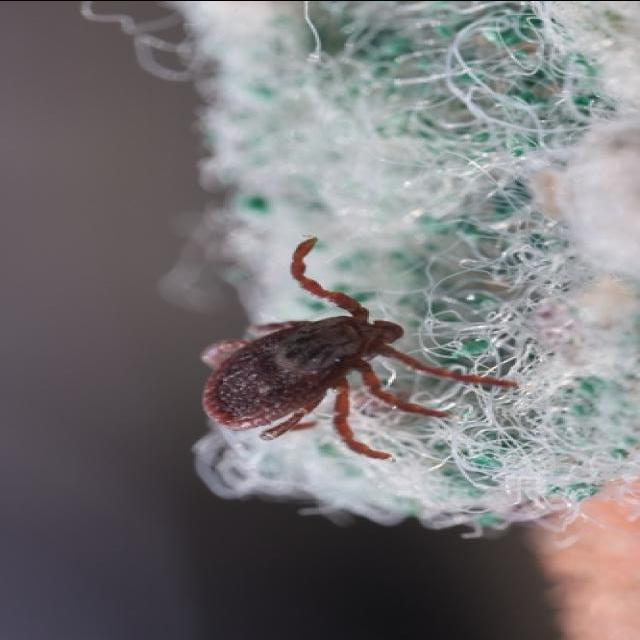Dermacentor Reticulatus-M: (202, 237, 519, 460)
